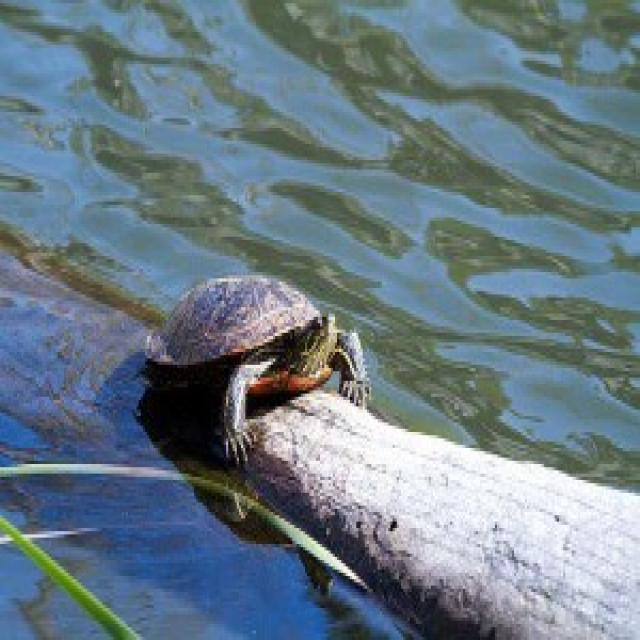Sea turtle: (124, 262, 372, 501)
